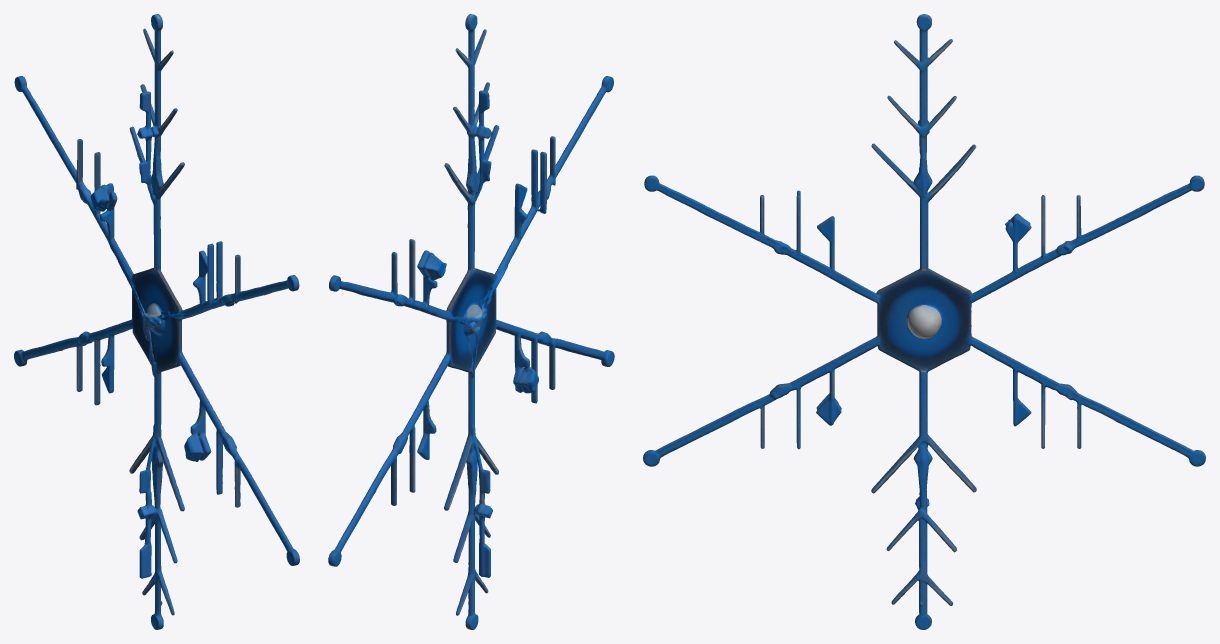
File: snowflake.glb
The picture shows the model from 3 angles, left to right: view 1: azimuth 30°, elevation 25°; view 2: azimuth 150°, elevation 25°; view 3: azimuth 270°, elevation 25°; orthographic projection.
Visible parts, largest first — view 1: tripo_node_c783cb8e-156d-4fca-9ab2-bb7d209fafef; view 2: tripo_node_c783cb8e-156d-4fca-9ab2-bb7d209fafef; view 3: tripo_node_c783cb8e-156d-4fca-9ab2-bb7d209fafef.
Part boxes in pixels (x1,y1,x2,y2): tripo_node_c783cb8e-156d-4fca-9ab2-bb7d209fafef: [14, 14, 299, 629]; tripo_node_c783cb8e-156d-4fca-9ab2-bb7d209fafef: [328, 14, 614, 629]; tripo_node_c783cb8e-156d-4fca-9ab2-bb7d209fafef: [643, 14, 1205, 629].
Bounding box in the file's own units: 0.0643 × 1 × 0.8303.
1 material, 1 textured.
